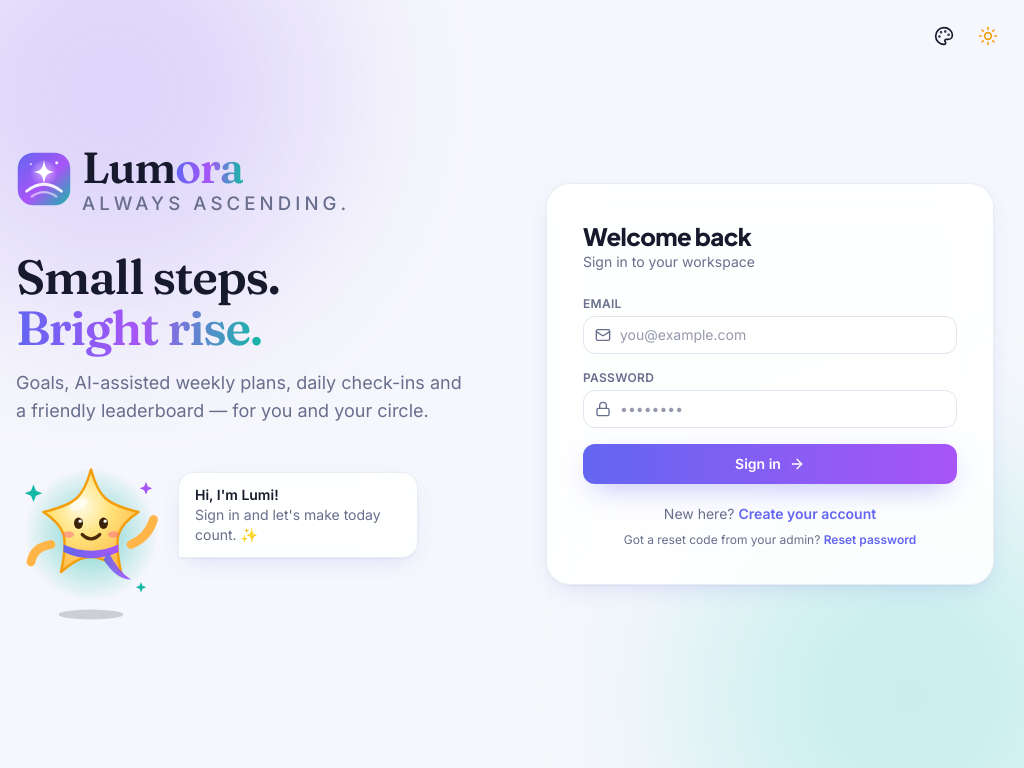
Test case: Login › validates required fields
Click the button "Sign in".
click(770, 464)  # box [583,444,957,484]
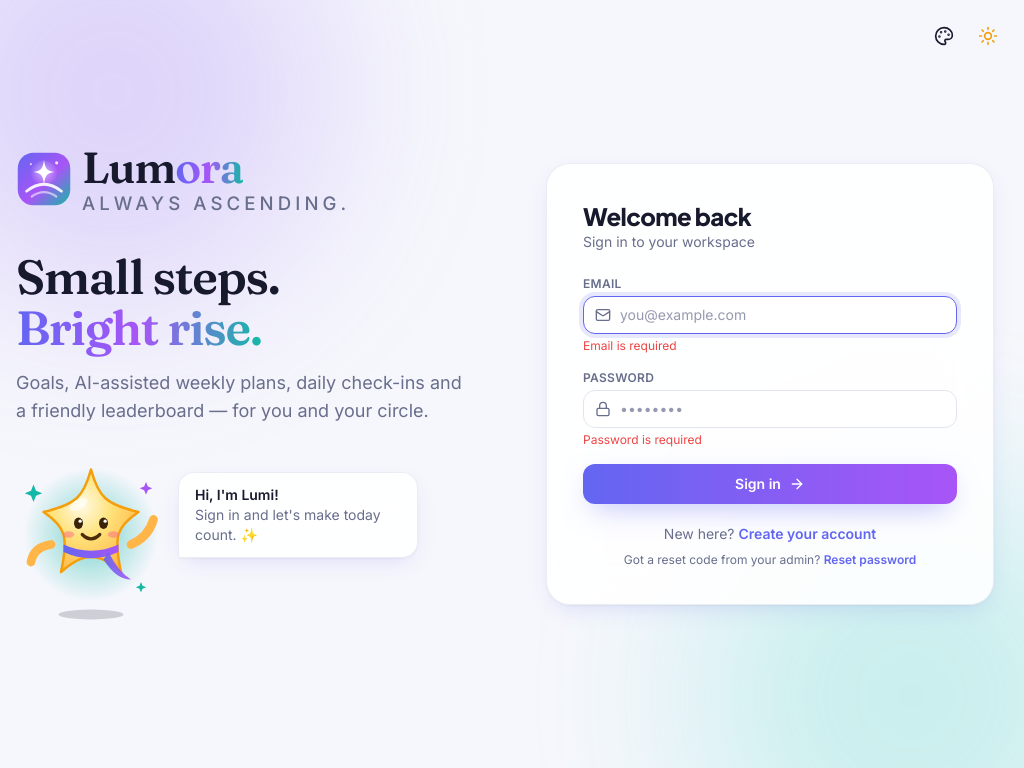
expect the text "Email is required" is shown: met, box [583,338,677,353]
expect the text "Password is required" is shown: met, box [583,432,702,447]
